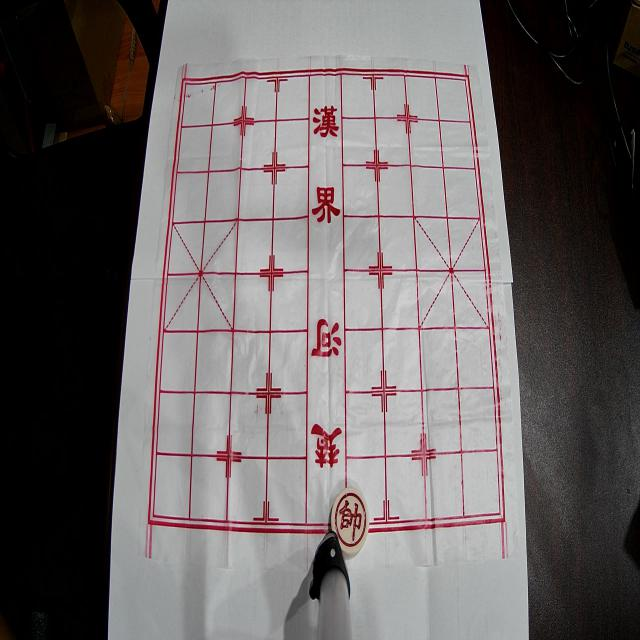red-general: (331, 486, 369, 554)
